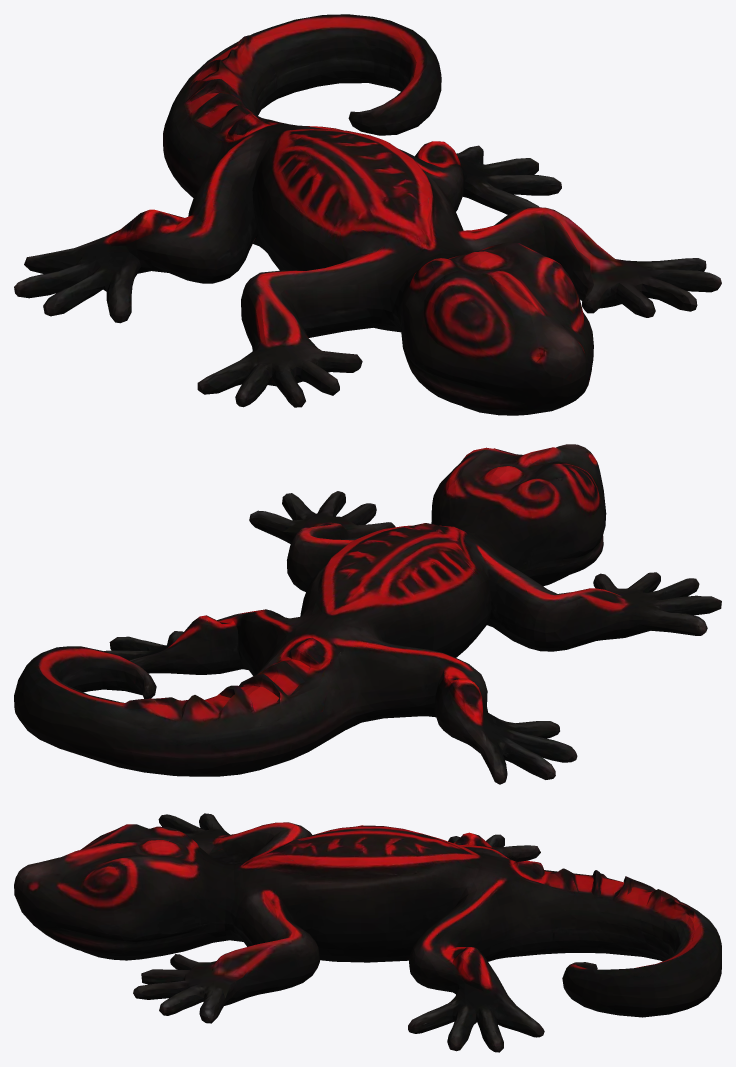
The model's file is cicak-transformed.glb.
3 views of the same model, one above another, from view 1: azimuth 30°, elevation 25°; view 2: azimuth 150°, elevation 25°; view 3: azimuth 270°, elevation 25° (orthographic). The views are drawn at different scales.
Parts seen in each view (by area): view 1: geometry_0; view 2: geometry_0; view 3: geometry_0.
Part boxes in pixels (x1=…): geometry_0: x1=14, y1=14, x2=721, y2=415; geometry_0: x1=14, y1=444, x2=721, y2=784; geometry_0: x1=14, y1=813, x2=721, y2=1052.
Bounding box in the file's own units: 0.7023 × 0.1808 × 1.
Materials: 1 (1 with a texture image).
